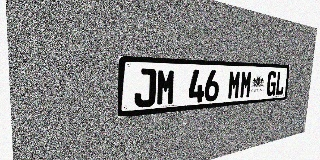4: (188, 69, 205, 103)
6: (204, 70, 220, 102)
G: (266, 71, 277, 96)
J: (134, 68, 156, 108)
L: (275, 71, 285, 95)
M: (156, 69, 176, 106), (227, 70, 241, 100), (239, 71, 252, 99)
